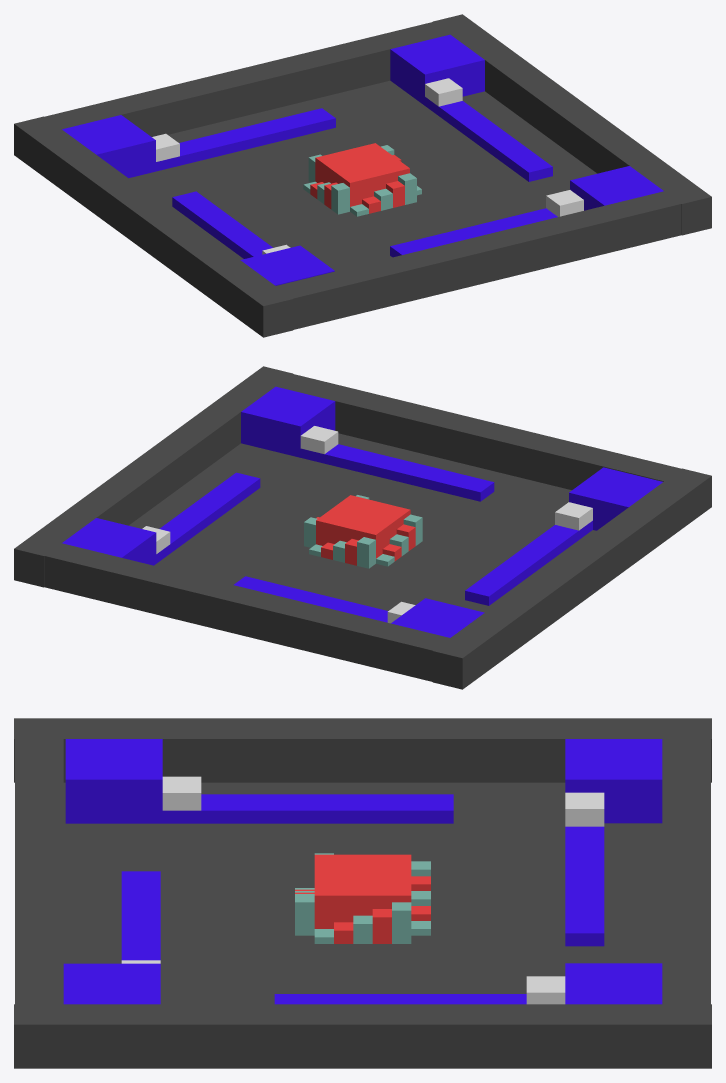
Rendered from arene_test_reduite.FBX.
3 views of the same model, one above another, from view 1: azimuth 30°, elevation 25°; view 2: azimuth 150°, elevation 25°; view 3: azimuth 270°, elevation 25° (orthographic). The views are drawn at different scales.
Parts seen in each view (by area): view 1: Plane001, Box003, Box006, Box002, Box004, Box010, Box014, Box009, Box015, Box011, Box012, Box007 (+6 smaller); view 2: Plane001, Box002, Box006, Box003, Box004, Box007, Box013, Box015, Box012, Box011, Box008, Box010 (+5 smaller); view 3: Plane001, Box004, Box006, Box002, Box003, Box008, Box012, Box009, Box015, Box014, Box010, Box007 (+9 smaller).
Part boxes in pixels (x1=…): Plane001: x1=129, y1=80, x2=596, y2=271; Box003: x1=275, y1=191, x2=681, y2=329; Box006: x1=14, y1=116, x2=293, y2=337; Box002: x1=44, y1=22, x2=450, y2=136; Box004: x1=433, y1=14, x2=711, y2=235; Box010: x1=390, y1=34, x2=484, y2=105; Box014: x1=156, y1=108, x2=335, y2=171; Box009: x1=62, y1=115, x2=155, y2=178; Box015: x1=315, y1=143, x2=409, y2=206; Box011: x1=425, y1=97, x2=552, y2=181; Box012: x1=172, y1=191, x2=272, y2=258; Box007: x1=570, y1=166, x2=663, y2=210; Plane001: x1=129, y1=433, x2=596, y2=612; Box002: x1=44, y1=543, x2=450, y2=681; Box006: x1=432, y1=468, x2=711, y2=689; Box003: x1=275, y1=374, x2=681, y2=489; Box004: x1=14, y1=366, x2=292, y2=587; Box007: x1=241, y1=386, x2=335, y2=457; Box013: x1=300, y1=444, x2=494, y2=501; Box015: x1=316, y1=495, x2=410, y2=558; Box012: x1=465, y1=520, x2=592, y2=605; Box011: x1=156, y1=472, x2=260, y2=563; Box008: x1=569, y1=467, x2=662, y2=530; Box010: x1=62, y1=518, x2=156, y2=565; Plane001: x1=63, y1=782, x2=662, y2=1004; Box004: x1=14, y1=1004, x2=711, y2=1068; Box006: x1=14, y1=718, x2=711, y2=782; Box002: x1=662, y1=738, x2=710, y2=1004; Box003: x1=15, y1=738, x2=63, y2=1004; Box008: x1=65, y1=739, x2=162, y2=823; Box012: x1=162, y1=794, x2=453, y2=823; Box009: x1=565, y1=739, x2=662, y2=823; Box015: x1=314, y1=854, x2=411, y2=928; Box014: x1=565, y1=826, x2=604, y2=946; Box010: x1=565, y1=963, x2=662, y2=1004; Box007: x1=63, y1=963, x2=160, y2=1004.
Size of the model in its own units: 7477 by 500 by 7200.
